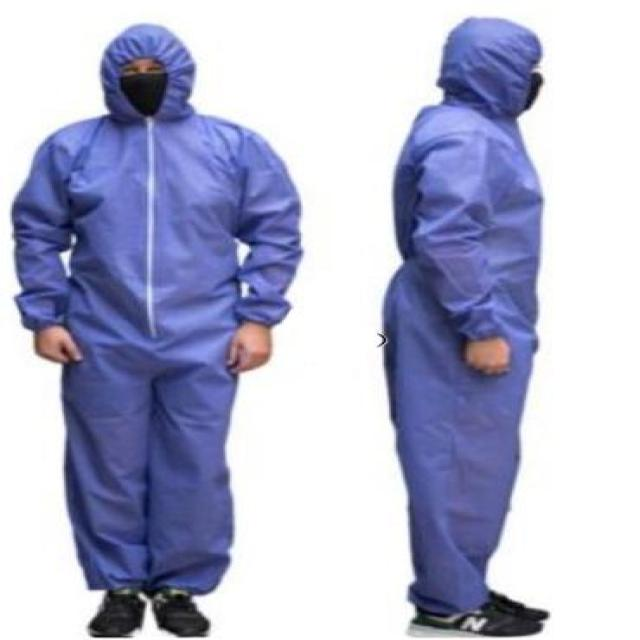Coverall: (6, 20, 312, 640), (374, 15, 557, 640)
Mask: (114, 76, 177, 112)
